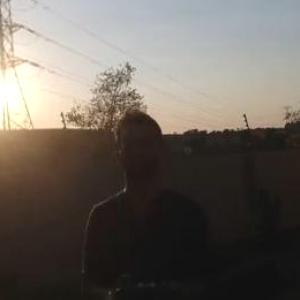follow: (79, 103, 222, 299)
